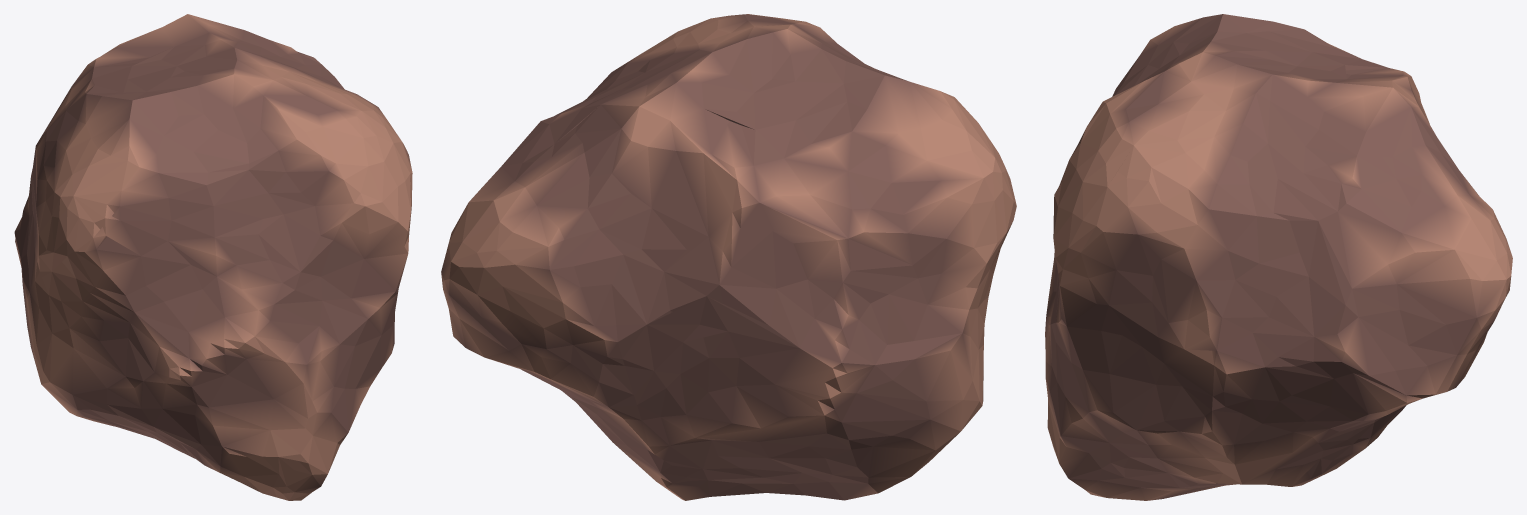
Rendered from Meteorite8(broken).fbx.
3 renders of one model, left to right at view 1: azimuth 30°, elevation 25°; view 2: azimuth 150°, elevation 25°; view 3: azimuth 270°, elevation 25°, orthographic. The views are drawn at different scales.
Visible parts, largest first — view 1: Meteorite11, Meteorite16, Meteorite15, Meteorite14, Meteorite10, Meteorite13; view 2: Meteorite15, Meteorite10, Meteorite9, Meteorite12, Meteorite14, Meteorite16, Meteorite11; view 3: Meteorite14, Meteorite13, Meteorite12, Meteorite11, Meteorite10, Meteorite15, Meteorite16, Meteorite9.
Part boxes in pixels (left/top/right/bottom): Meteorite11: left=120, top=80, right=411, bottom=401; Meteorite16: left=23, top=221, right=348, bottom=500; Meteorite15: left=14, top=33, right=272, bottom=280; Meteorite14: left=205, top=25, right=412, bottom=206; Meteorite10: left=71, top=14, right=244, bottom=90; Meteorite13: left=345, top=257, right=407, bottom=432; Meteorite15: left=677, top=24, right=1016, bottom=364; Meteorite10: left=493, top=83, right=783, bottom=365; Meteorite9: left=577, top=296, right=935, bottom=500; Meteorite12: left=441, top=167, right=633, bottom=418; Meteorite14: left=501, top=18, right=753, bottom=180; Meteorite16: left=912, top=224, right=1011, bottom=475; Meteorite11: left=711, top=14, right=872, bottom=67; Meteorite14: left=1080, top=64, right=1443, bottom=367; Meteorite13: left=1055, top=278, right=1374, bottom=498; Meteorite12: left=1310, top=206, right=1512, bottom=426; Meteorite11: left=1045, top=54, right=1190, bottom=380; Meteorite10: left=1328, top=59, right=1506, bottom=238; Meteorite15: left=1140, top=14, right=1361, bottom=82; Meteorite16: left=1045, top=361, right=1235, bottom=500; Meteorite9: left=1292, top=405, right=1406, bottom=486.
Size of the model in its own units: 2142 by 2121 by 2072.
